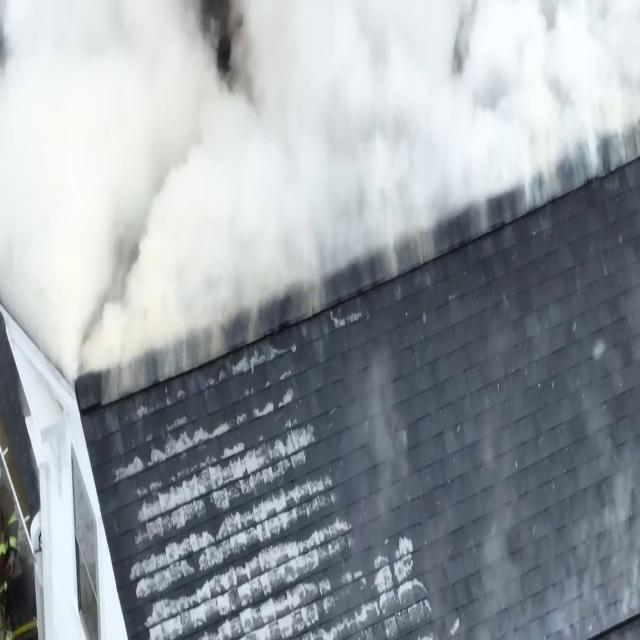Smoke: (1, 0, 639, 364)
